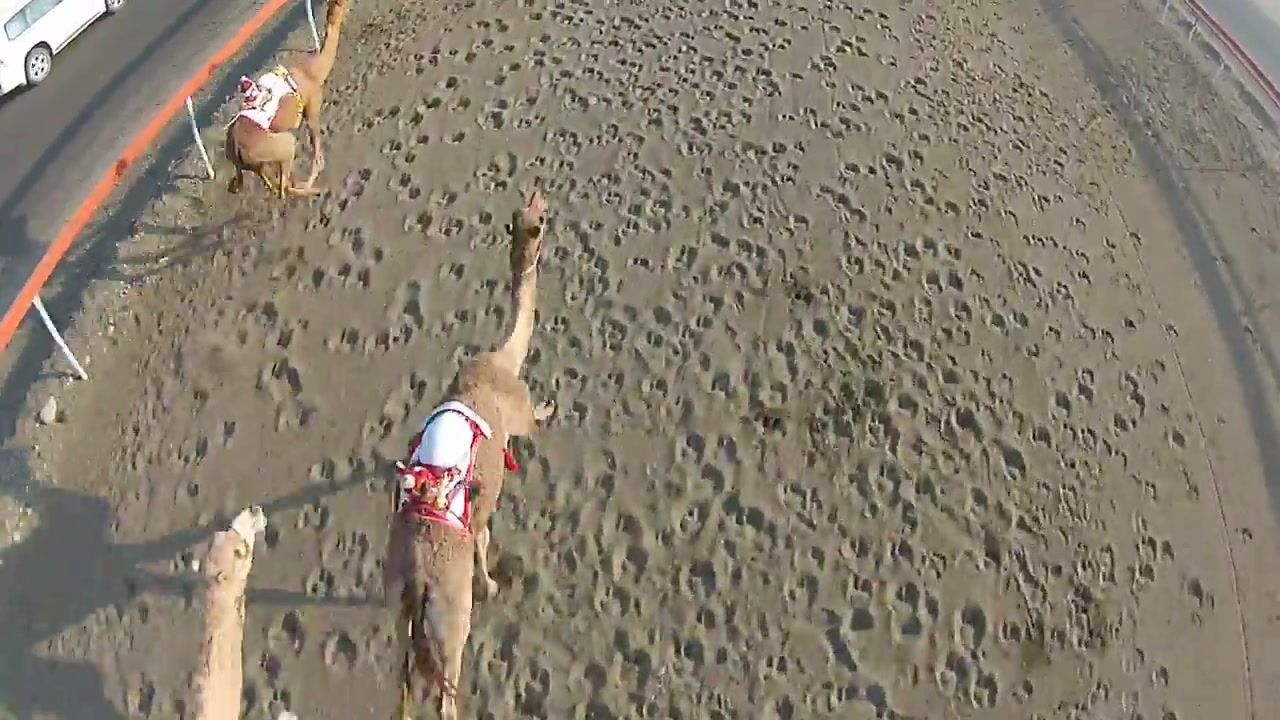animal_footprint: (611, 6, 1020, 682), (117, 31, 493, 700), (269, 104, 511, 700), (468, 16, 622, 702)
